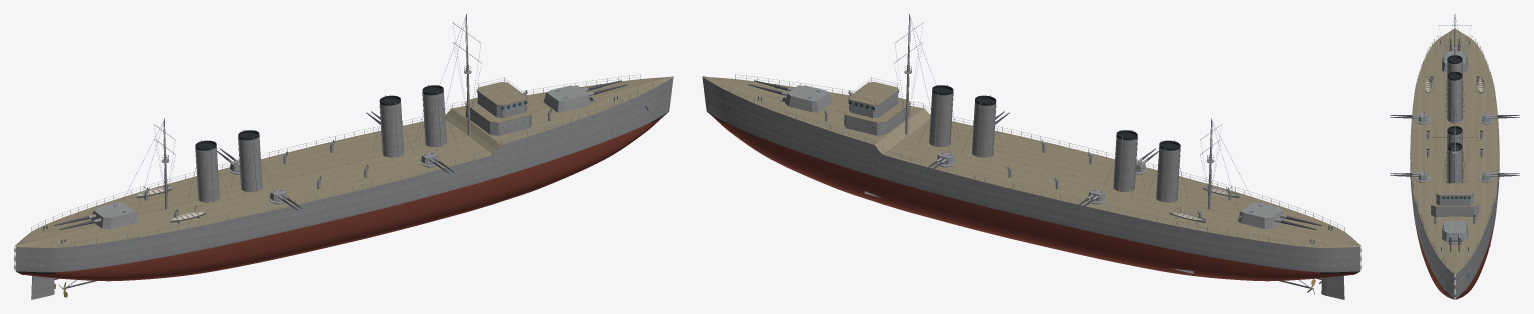
Rendered from san_giorgio.glb.
3 renders of one model, left to right at view 1: azimuth 30°, elevation 25°; view 2: azimuth 150°, elevation 25°; view 3: azimuth 270°, elevation 25°, orthographic. The views are drawn at different scales.
Visible parts, largest first — view 1: San Giorgio class; view 2: San Giorgio class; view 3: San Giorgio class.
Part boxes in pixels (box(x1,y1,x2,y2)): San Giorgio class: box(14, 14, 673, 299); San Giorgio class: box(702, 14, 1361, 299); San Giorgio class: box(1390, 14, 1519, 299).
Size of the model in its own units: 141 by 37.3 by 30.4.
Materials: 8 (2 with a texture image).
